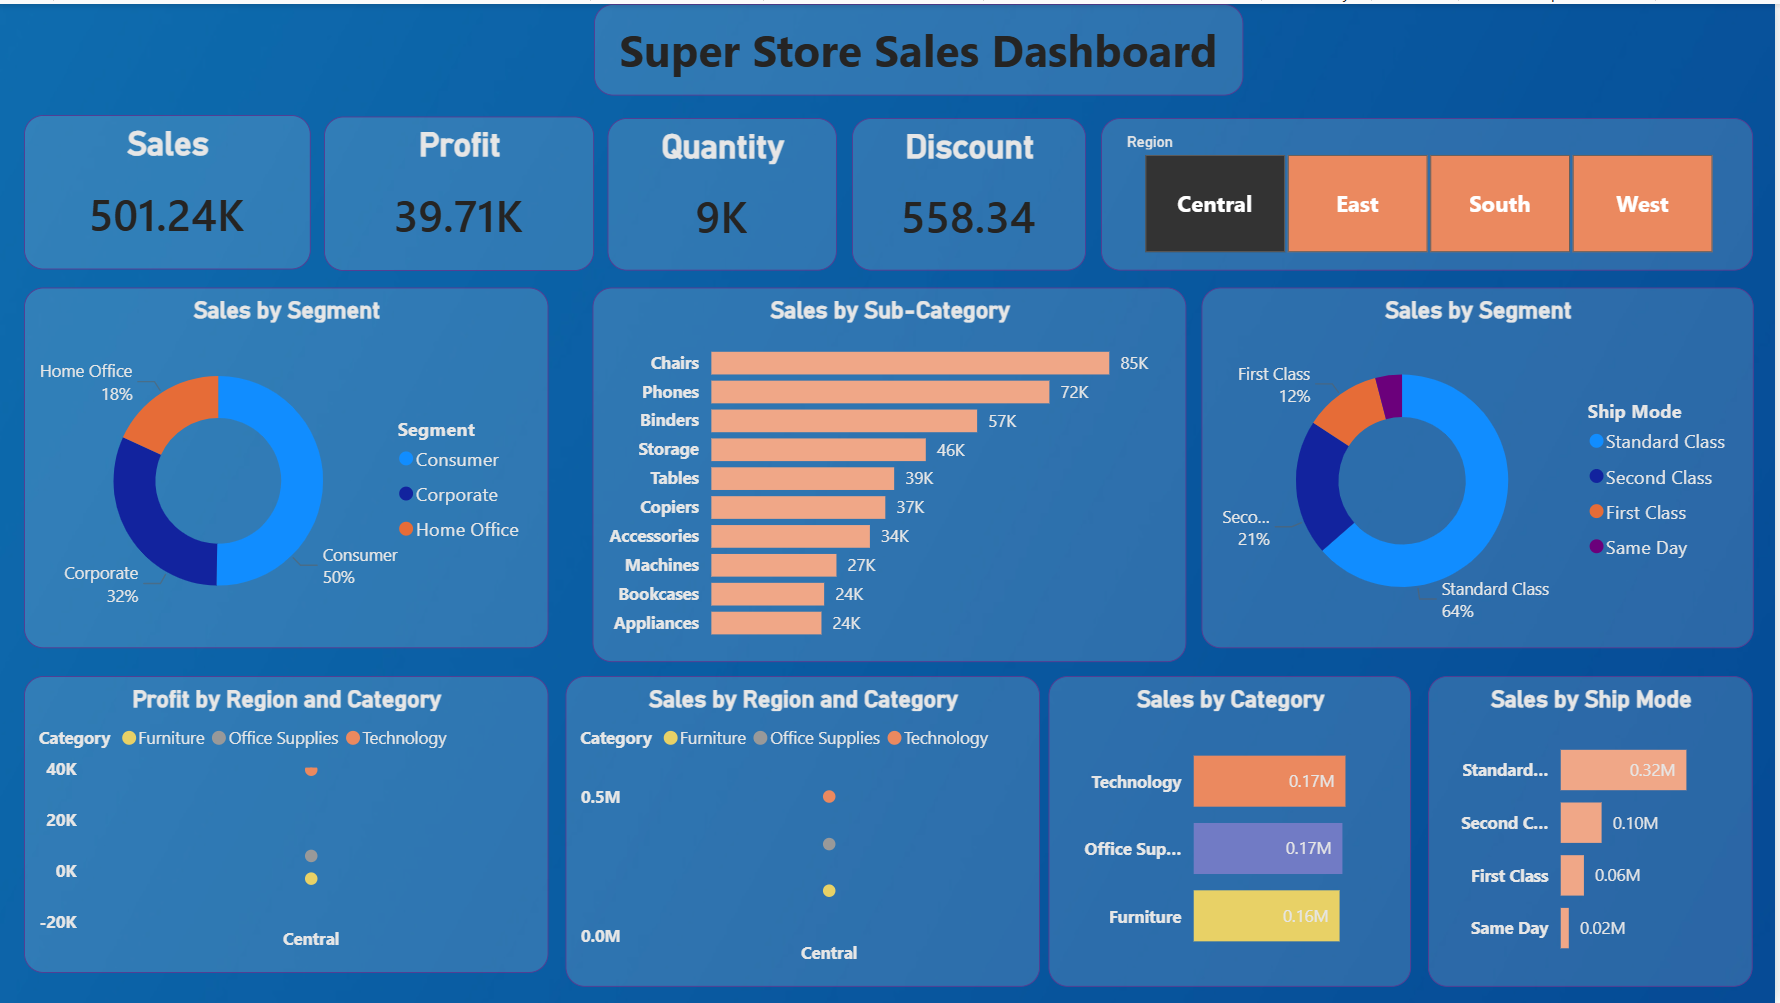

Layout of this report page (visuals, bound fields, positions):
{"tool":"powerbi","page":{"name":"Page 1","canvas":[1280,720],"ordinal":0},"visuals":[{"type":"clusteredBarChart","title":"Sales by Category","fields":{"Category":["samplesuperstore.Category"],"Y":["Sum(samplesuperstore.Sales)"]},"box":[755.4,484,261.4,224],"z":0},{"type":"clusteredBarChart","title":"Sales by Sub-Category","fields":{"Category":["samplesuperstore.Sub-Category"],"Y":["Sum(samplesuperstore.Sales)"]},"box":[426.5,203.9,427.9,270],"z":1},{"type":"clusteredBarChart","title":"Sales by Ship Mode","fields":{"Category":["samplesuperstore.Ship Mode"],"Y":["Sum(samplesuperstore.Sales)"]},"box":[1029.7,484,234.1,224],"z":2},{"type":"stackedAreaChart","title":"Sales by Region and Category","fields":{"Y":["Sum(samplesuperstore.Sales)"],"Category":["samplesuperstore.Region"],"Series":["samplesuperstore.Category"]},"box":[407.8,484,341.8,224],"z":3},{"type":"stackedAreaChart","title":"Profit by Region and Category","fields":{"Category":["samplesuperstore.Region"],"Series":["samplesuperstore.Category"],"Y":["Sum(samplesuperstore.Profit)"]},"box":[17.2,484,377.7,214],"z":4},{"type":"donutChart","title":"Sales by Segment","fields":{"Category":["samplesuperstore.Segment"],"Y":["Sum(samplesuperstore.Sales)"]},"box":[17.2,203.9,377.7,259.9],"z":6},{"type":"donutChart","title":"Sales by Segment","fields":{"Y":["Sum(samplesuperstore.Sales)"],"Category":["samplesuperstore.Ship Mode"]},"box":[865.9,203.9,397.8,259.9],"z":7},{"type":"slicer","fields":{"Values":["samplesuperstore.Region"]},"box":[768.3,81.9,495.4,110.6],"z":8},{"type":"textbox","box":[427.9,0,468.2,66.1],"z":9},{"type":"cardVisual","title":"Sales","fields":{"Data":["Sum(samplesuperstore.Sales)"]},"box":[17.2,80.4,168,110.6],"z":10},{"type":"cardVisual","title":"Profit","fields":{"Data":["Sum(samplesuperstore.Profit)"]},"box":[196.7,80.4,198.2,110.6],"z":11},{"type":"cardVisual","title":"Quantity","fields":{"Data":["Sum(samplesuperstore.Quantity)"]},"box":[407.8,81.9,165.1,110.6],"z":12},{"type":"cardVisual","title":"Discount","fields":{"Data":["Sum(samplesuperstore.Discount)"]},"box":[587.3,81.9,168,110.6],"z":13}]}

Visuals, with their boxes in screenshot pixels (x1, y1, x2, y2), scaled from the page's 1280x720 canvas onto the 1780x1003 screenshot:
"Sales by Category" clusteredBarChart: box(1050, 674, 1414, 986)
"Sales by Sub-Category" clusteredBarChart: box(593, 284, 1188, 660)
"Sales by Ship Mode" clusteredBarChart: box(1432, 674, 1757, 986)
"Sales by Region and Category" stackedAreaChart: box(567, 674, 1042, 986)
"Profit by Region and Category" stackedAreaChart: box(24, 674, 549, 972)
"Sales by Segment" donutChart: box(24, 284, 549, 646)
"Sales by Segment" donutChart: box(1204, 284, 1757, 646)
slicer - samplesuperstore.Region: box(1068, 114, 1757, 268)
textbox: box(595, 0, 1246, 92)
"Sales" cardVisual: box(24, 112, 258, 266)
"Profit" cardVisual: box(274, 112, 549, 266)
"Quantity" cardVisual: box(567, 114, 797, 268)
"Discount" cardVisual: box(817, 114, 1050, 268)
